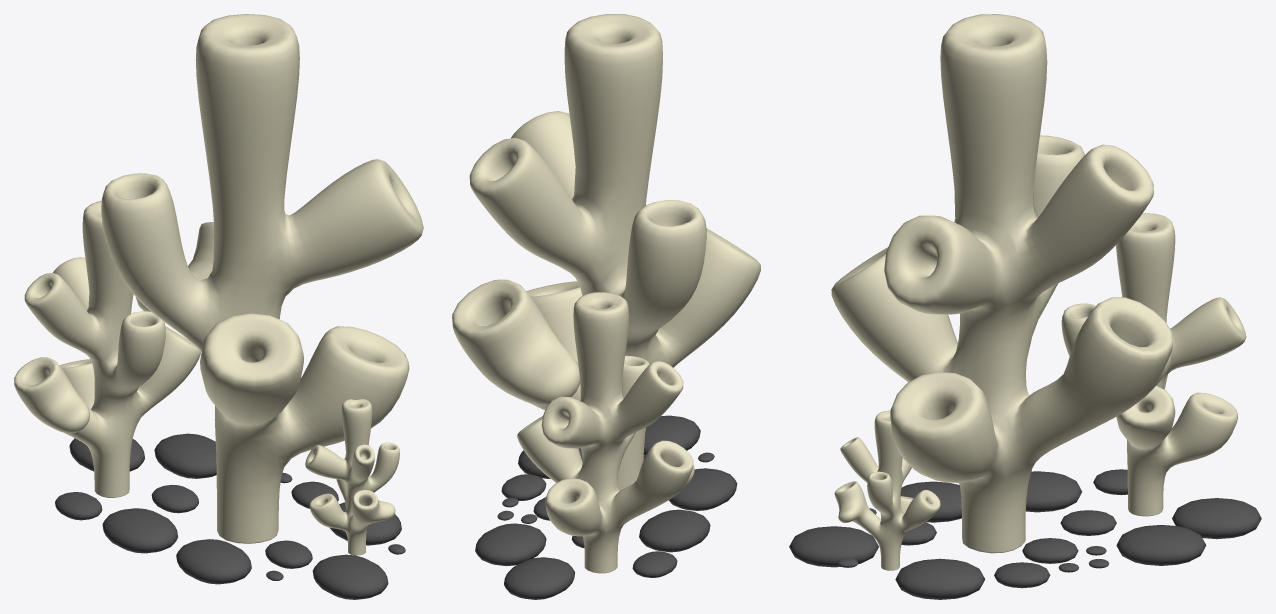
File: coral-1.fbx
The picture shows the model from 3 angles, left to right: view 1: azimuth 30°, elevation 25°; view 2: azimuth 150°, elevation 25°; view 3: azimuth 270°, elevation 25°; orthographic projection. The views are drawn at different scales.
Parts seen in each view (by area): view 1: Cube.019; view 2: Cube.019; view 3: Cube.019.
Boxes of the visible parts, x1=… form: Cube.019: x1=14, y1=14, x2=423, y2=599; Cube.019: x1=452, y1=14, x2=760, y2=599; Cube.019: x1=789, y1=14, x2=1261, y2=599.
Bounding box in the file's own units: 1013 × 1657 × 1376.
